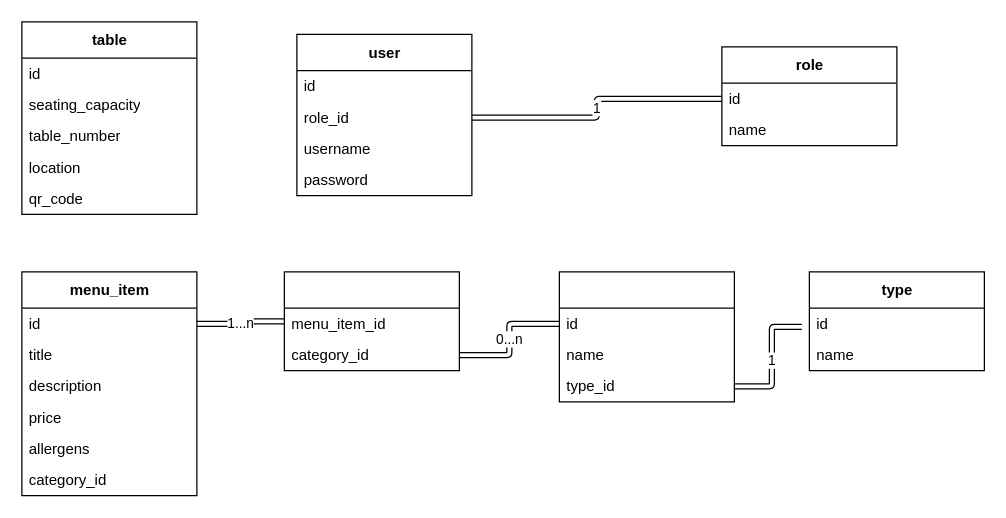
Some shapes in this 1006 by 518 pixel diagram are drawn without their labels. Here are the shapes that lost their labels. From the top down, the box of each, then its label:
(283, 271, 459, 371): menu_item_category
(558, 271, 734, 402): category
